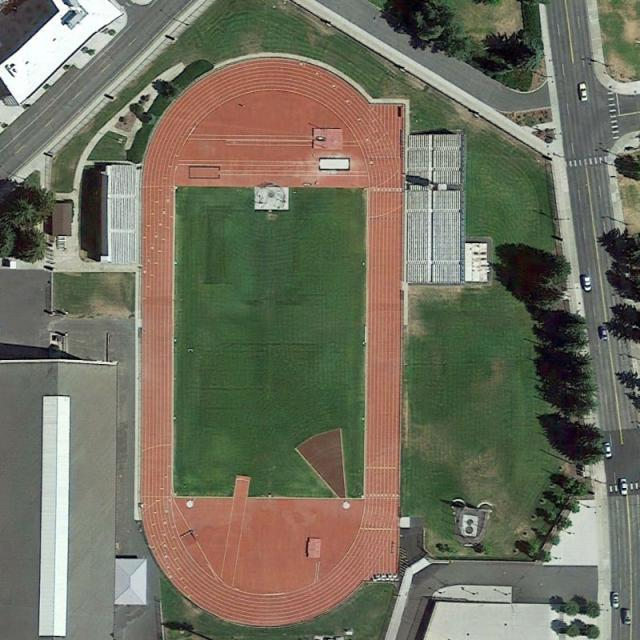vehicle: (582, 274, 592, 293), (602, 442, 612, 459), (610, 591, 619, 609), (618, 478, 627, 495), (579, 83, 587, 102), (622, 609, 630, 625), (599, 326, 606, 340)
